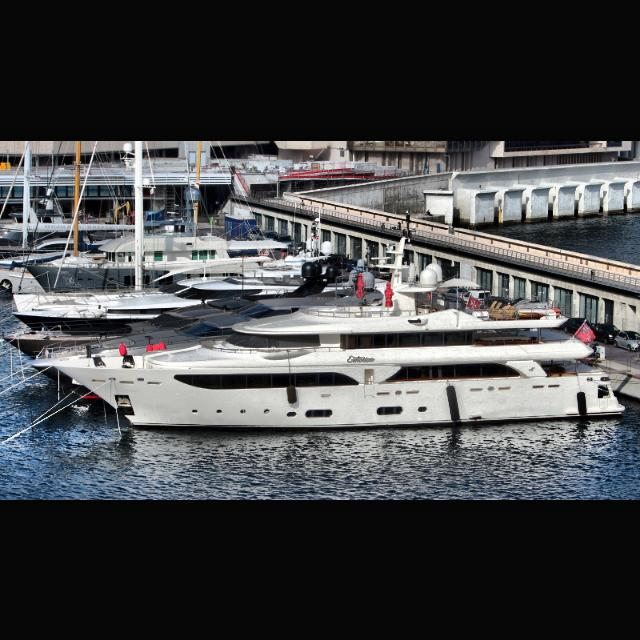yacht: (50, 232, 626, 432)
